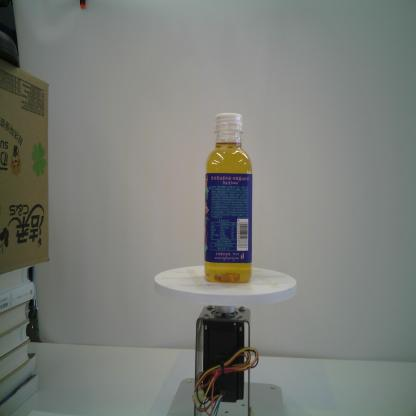Drink: (201, 110, 254, 284)
